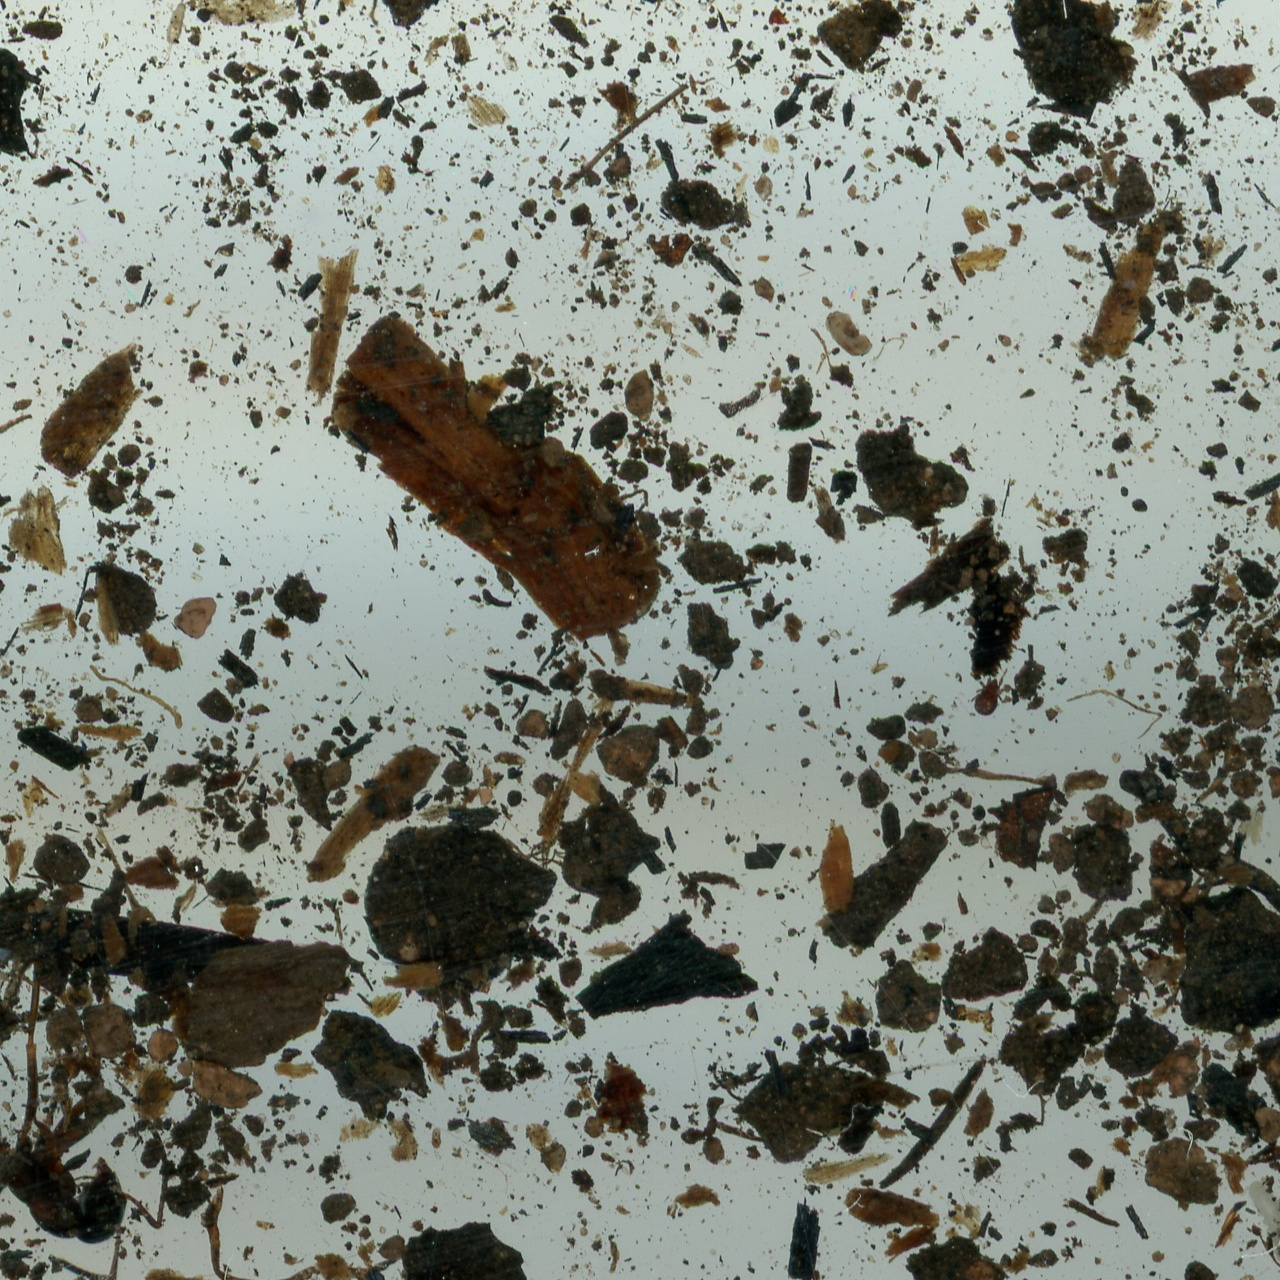arthropod: (1242, 1175, 1280, 1275), (159, 0, 193, 68)
